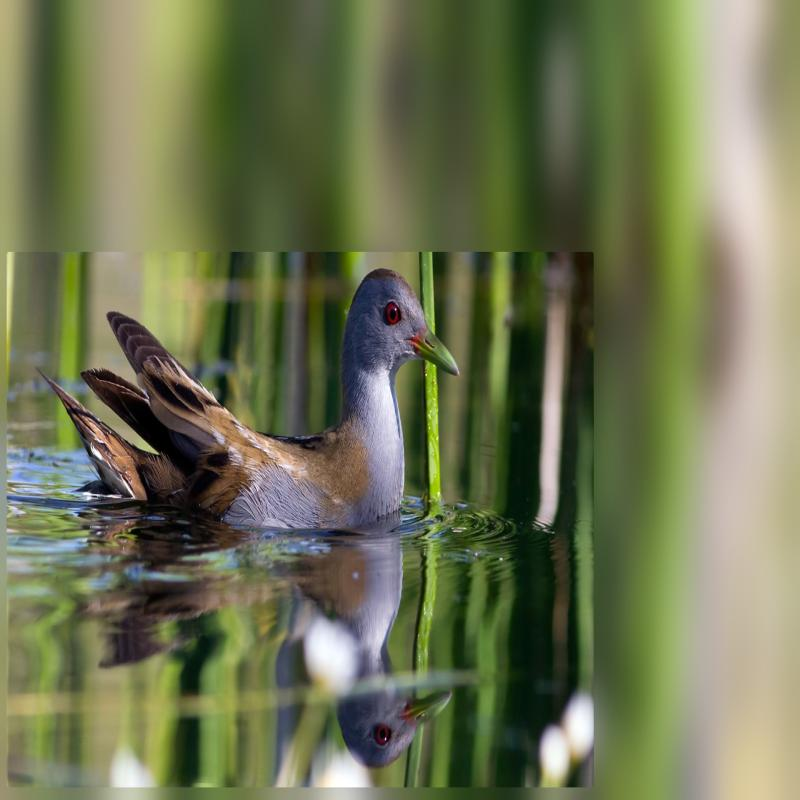little crake: (29, 261, 465, 545)
